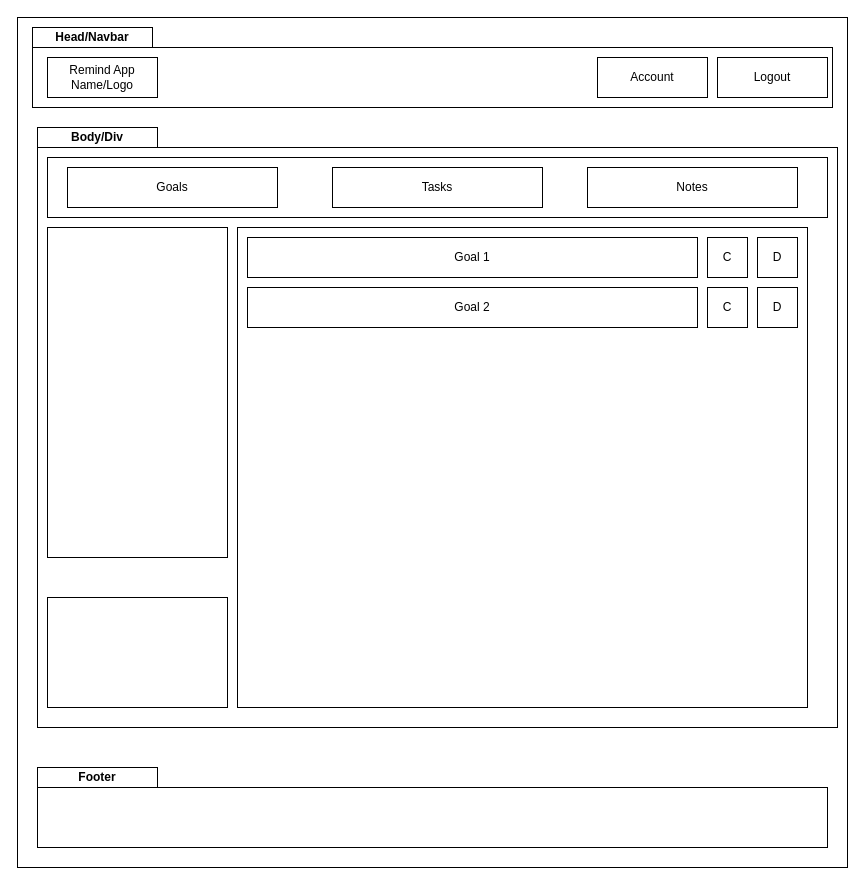
Some shapes in this 865 by 885 pixel diagram are drawn without their labels. The shapes that lost their labels are listed below. From the top down, each one's box as (x1, y1, x2, y2) in pixels, then its label:
(46, 226, 228, 558): Goal Metrics, How many completed this week, etc
(46, 596, 228, 708): Trash
